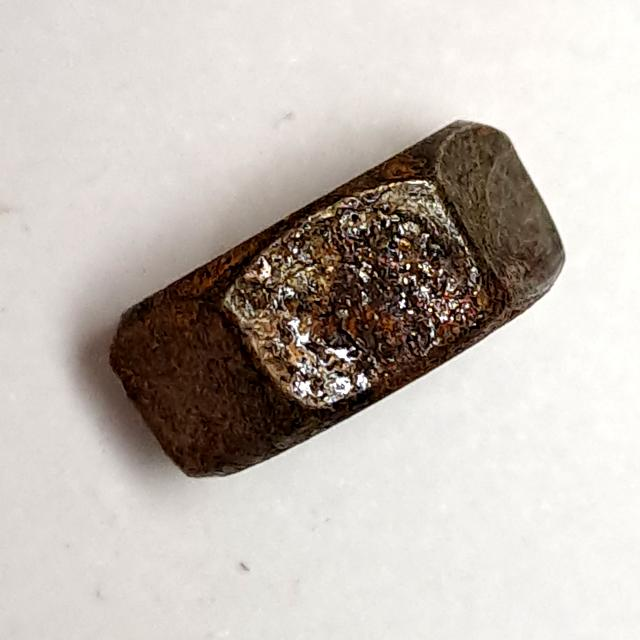Side_Rust: (102, 109, 575, 491)
